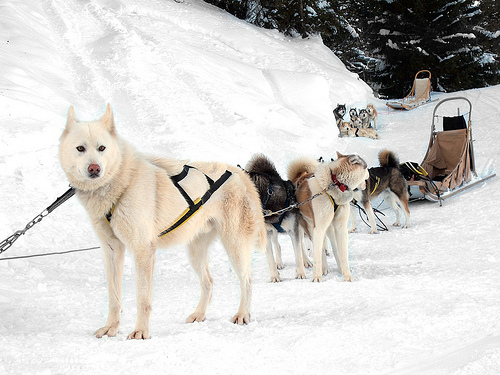dog: (57, 100, 271, 341), (286, 152, 374, 283), (331, 101, 348, 125)
